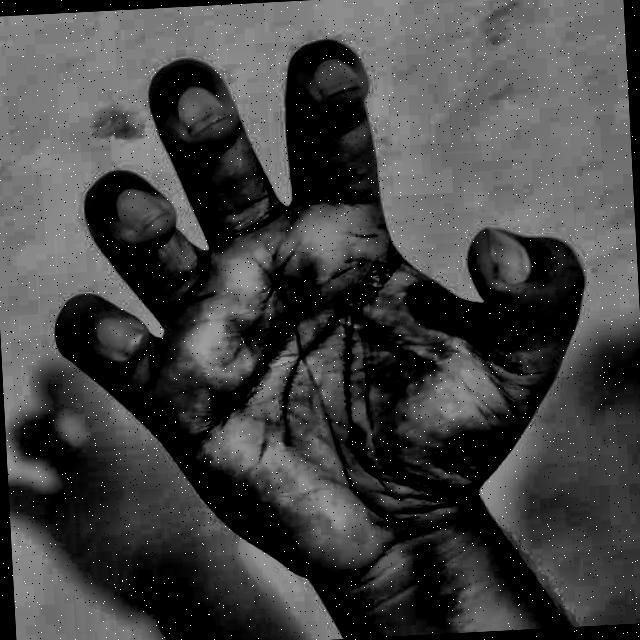Ja: (34, 4, 611, 640)
